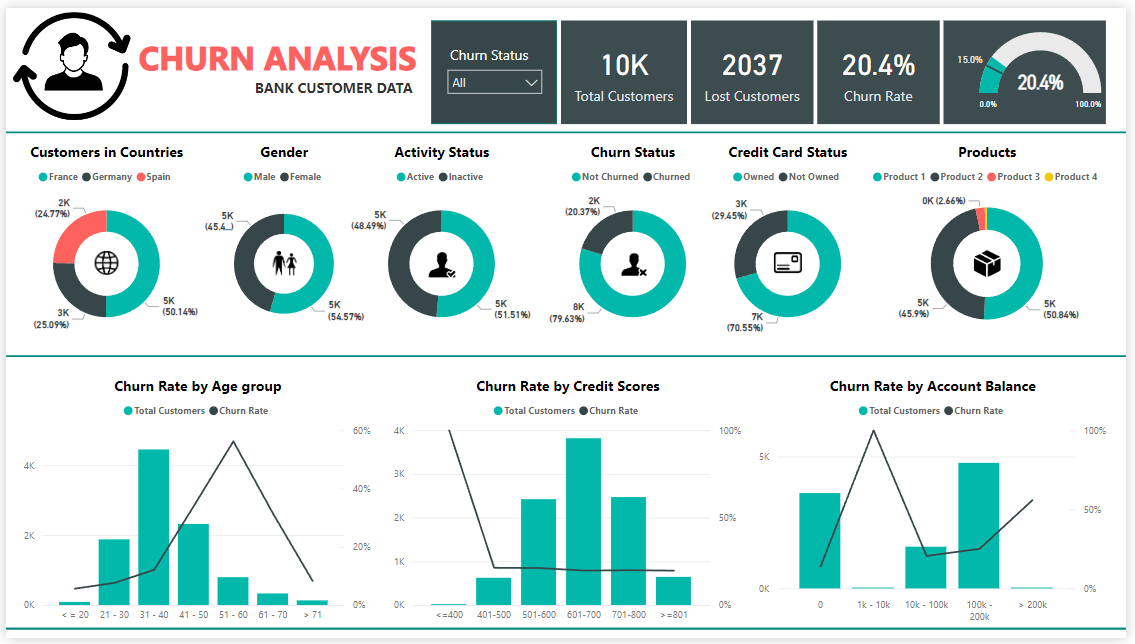

The page's visual inventory and layout, read from the dashboard file:
{"tool":"powerbi","page":{"name":"Page 1","canvas":[1280,720],"ordinal":0},"visuals":[{"type":"card","fields":{"Values":["Customer Data.Total Customer"]},"box":[634.3,14.3,144.3,118.6],"z":0},{"type":"card","fields":{"Values":["Customer Data.Lost Customers"]},"box":[782.9,14.3,140,118.6],"z":1000},{"type":"donutChart","title":"Gender","fields":{"Category":["Customer Data.Gender"],"Y":["Customer Data.Total Customer"]},"box":[220,152.9,195.7,230],"z":2000},{"type":"donutChart","title":"Activity Status","fields":{"Y":["Customer Data.Total Customer"],"Category":["Customer Data.Active Status"]},"box":[382.9,152.9,230,230],"z":3000},{"type":"donutChart","title":"Churn Status","fields":{"Y":["Customer Data.Total Customer"],"Category":["Customer Data.Churn Status"]},"box":[601.4,152.9,230,230],"z":4000},{"type":"donutChart","title":"Customers in Countries","fields":{"Y":["Customer Data.Total Customer"],"Category":["Customer Data.Country"]},"box":[0,152.9,230,230],"z":5000},{"type":"donutChart","title":"Credit Card Status","fields":{"Y":["Customer Data.Total Customer"],"Category":["Customer Data.Credit Card Status"]},"box":[778.6,152.9,230,230],"z":5000,"group":"g1"},{"type":"card","fields":{"Values":["Customer Data.churn rate"]},"box":[927.1,14.3,140,118.6],"z":6000},{"type":"gauge","fields":{"Y":["Customer Data.Churn Rate"],"TargetValue":["Max(Customer Data.Target Churn Rate)"]},"box":[1070.9,14.3,185.7,118.6],"z":7000},{"type":"shape","box":[0,127.1,1280,30],"z":8000},{"type":"lineClusteredColumnComboChart","title":"Churn Rate by Age group","fields":{"Y":["Customer Data.Total Customers"],"Y2":["Customer Data.Churn Rate"],"Category":["Age Groups.Age group"]},"box":[15.7,420,407.1,290],"z":9000},{"type":"lineClusteredColumnComboChart","title":"Churn Rate by Credit Scores","fields":{"Y":["Customer Data.Total Customers"],"Y2":["Customer Data.Churn Rate"],"Category":["Credit Score Groups.Credit Scores"]},"box":[438.6,420,407.1,290],"z":10000},{"type":"lineClusteredColumnComboChart","title":"Churn Rate by Account Balance","fields":{"Y":["Customer Data.Total Customers"],"Y2":["Customer Data.Churn Rate"],"Category":["Account Balance Groups.Account Balance"]},"box":[855.7,420.3,407.1,290],"z":11000},{"type":"shape","box":[485.7,14.3,144.3,118.6],"z":12000},{"type":"slicer","fields":{"Values":["Customer Data.Churn Status"]},"box":[494.3,37.1,128.6,80],"z":13000},{"type":"donutChart","title":"Products","fields":{"Y":["Customer Data.Total Customer"],"Category":["Customer Data.ProductName"]},"box":[979.6,153.2,282.3,229.2],"z":14000},{"type":"textbox","box":[0,25.4,474.3,77.1],"z":15000},{"type":"image","box":[872.9,268.6,41.4,44.3],"z":15004,"group":"g1"},{"type":"textbox","box":[273.9,73.6,200.3,36.2],"z":16000},{"type":"group","id":"g1","title":"Group 1","box":[778.6,152.9,230,230],"z":17000},{"type":"image","box":[698.6,270,38.6,45.7],"z":18000},{"type":"image","box":[300,271.4,37.1,41.4],"z":19000},{"type":"image","box":[95.7,273.1,38.6,37.1],"z":20000},{"type":"image","box":[474.3,274.3,48.6,38.6],"z":21000},{"type":"image","box":[1101.5,271.4,39.8,41],"z":22000},{"type":"shape","box":[0,698.6,1280,21.4],"z":23000},{"type":"shape","box":[0,698.6,1280,21.4],"z":24000},{"type":"shape","box":[0,382.9,1280,30],"z":25000},{"type":"image","box":[0,0,150,132.9],"z":26000}]}

Visuals, with their boxes in screenshot pixels (x1, y1, x2, y2), scaled from the page's 1280x720 canvas onto the 1135x644 screenshot:
card - Customer Data.Total Customer: box(562, 13, 690, 119)
card - Customer Data.Lost Customers: box(694, 13, 818, 119)
"Gender" donutChart: box(195, 137, 369, 342)
"Activity Status" donutChart: box(340, 137, 543, 342)
"Churn Status" donutChart: box(533, 137, 737, 342)
"Customers in Countries" donutChart: box(0, 137, 204, 342)
"Credit Card Status" donutChart: box(690, 137, 894, 342)
card - Customer Data.churn rate: box(822, 13, 946, 119)
gauge - Customer Data.Churn Rate x Max(Customer Data.Target Churn Rate): box(950, 13, 1114, 119)
shape: box(0, 114, 1134, 141)
"Churn Rate by Age group" lineClusteredColumnComboChart: box(14, 376, 375, 635)
"Churn Rate by Credit Scores" lineClusteredColumnComboChart: box(389, 376, 750, 635)
"Churn Rate by Account Balance" lineClusteredColumnComboChart: box(759, 376, 1120, 635)
shape: box(431, 13, 559, 119)
slicer - Customer Data.Churn Status: box(438, 33, 552, 105)
"Products" donutChart: box(869, 137, 1119, 342)
textbox: box(0, 23, 421, 92)
image: box(774, 240, 811, 280)
textbox: box(243, 66, 420, 98)
"Group 1" group: box(690, 137, 894, 342)
image: box(619, 242, 654, 282)
image: box(266, 243, 299, 280)
image: box(85, 244, 119, 277)
image: box(421, 245, 464, 280)
image: box(977, 243, 1012, 279)
shape: box(0, 625, 1134, 643)
shape: box(0, 625, 1134, 643)
shape: box(0, 342, 1134, 369)
image: box(0, 0, 133, 119)
